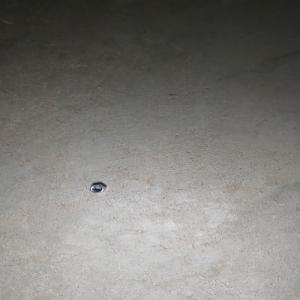Nut: (89, 182, 107, 193)
